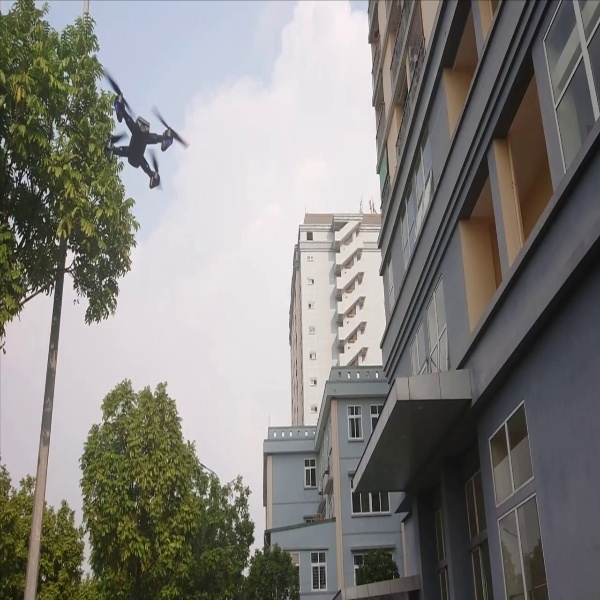drone: (86, 67, 193, 197)
